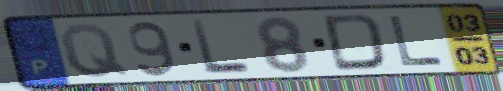8: (253, 14, 313, 74)
9: (124, 19, 178, 79)
D: (320, 12, 390, 73)
L: (188, 18, 255, 77), (386, 14, 447, 67)
Q: (56, 21, 132, 80)
